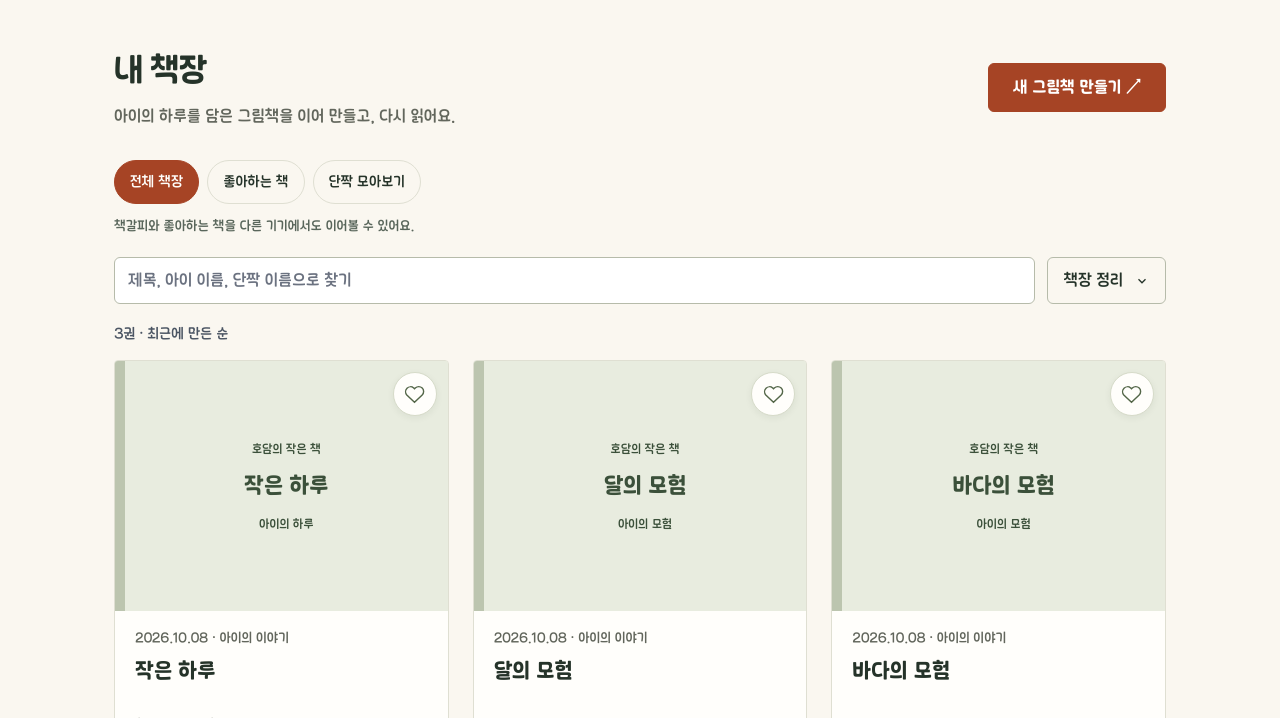
Test: MyStoryLibrary discovery › favorites books through separate accessible buttons and filters them
The width and height of the screenshot is (1280, 718).
expect the heading "작은 하루" is shown: met, box [135,659,216,683]
Step 1. Click the button named "작은 하루 좋아하는 책에 담기" → (415, 394), box [393,372,437,416]
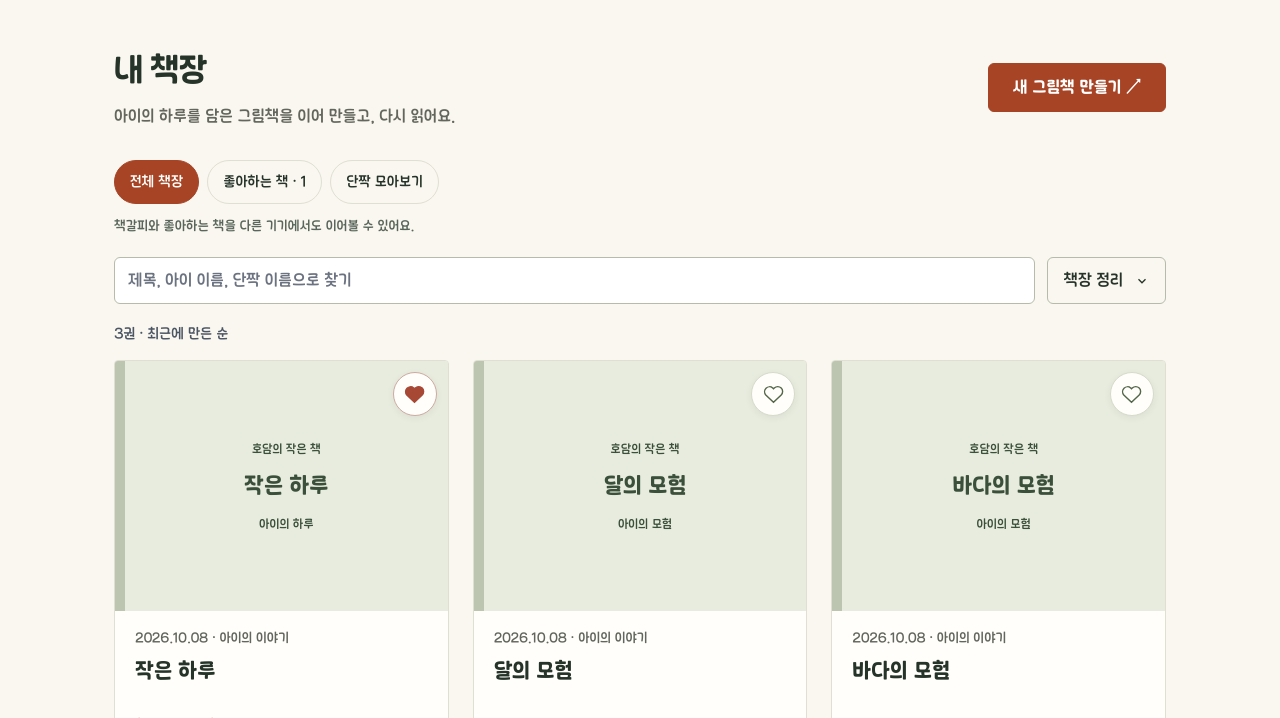
Step 2. Click the button "좋아하는 책 · 1" → (265, 182), box [207,160,322,204]
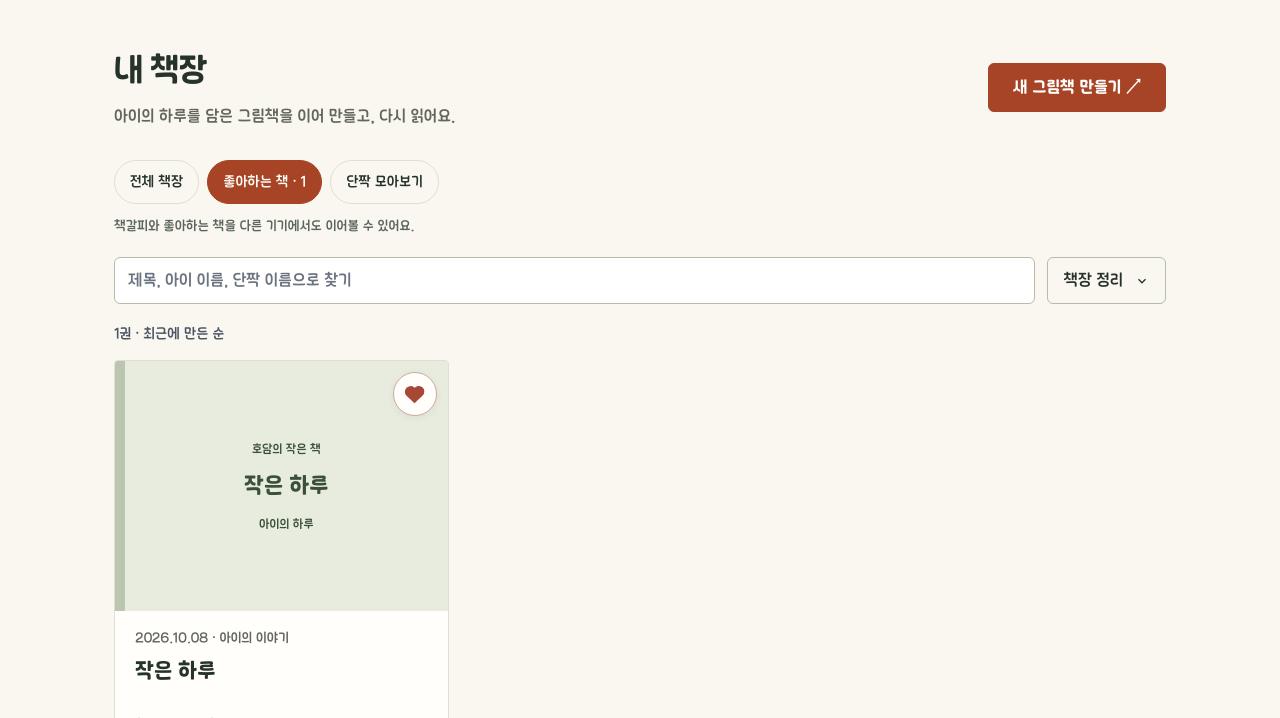
expect the heading "작은 하루" is shown: met, box [135,659,216,683]
expect the link "달의 모험" is gone: met
Step 3. Click the button named "작은 하루 좋아하는 책에서 빼기" → (415, 394), box [393,372,437,416]
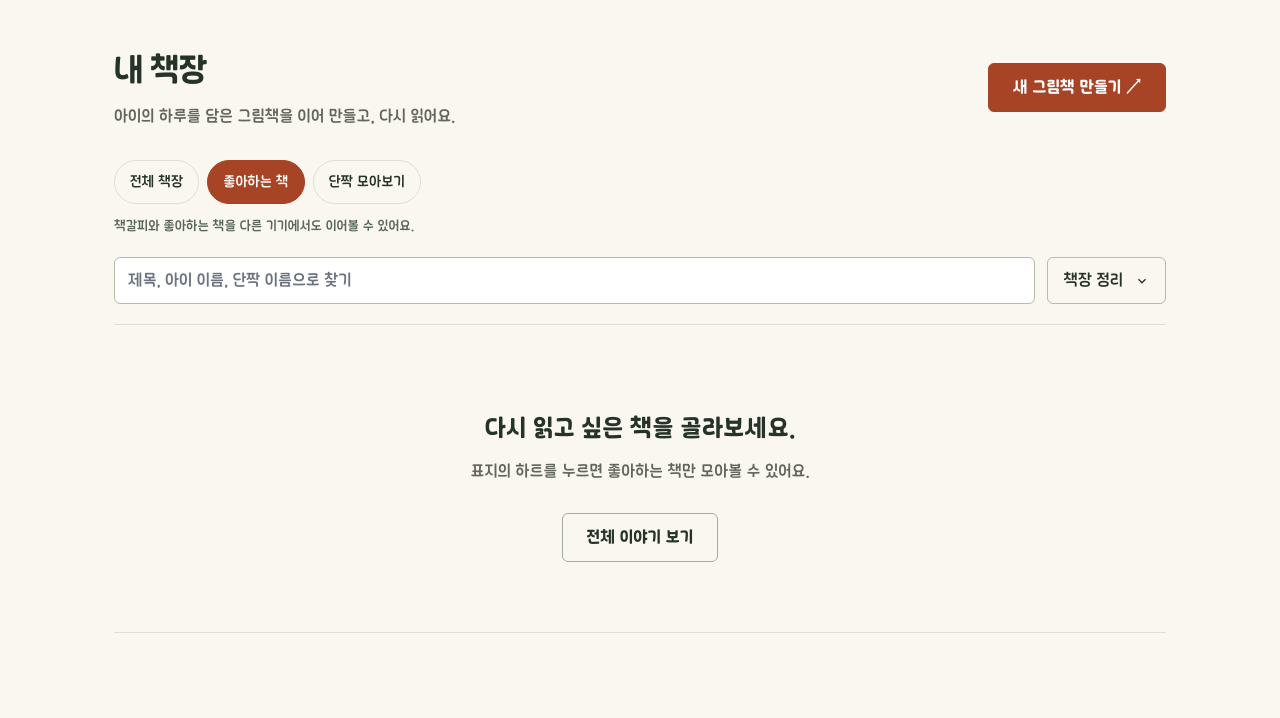
expect the heading "다시 읽고 싶은 책을 골라보세요." is shown: met, box [485,415,795,442]
